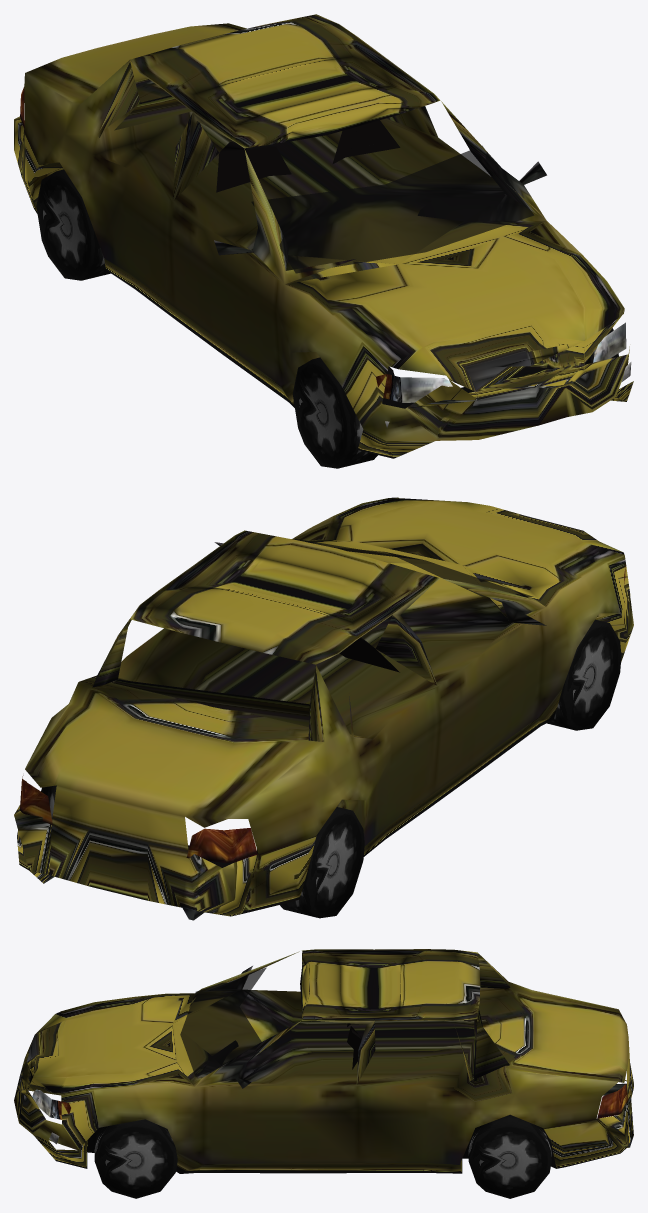
File: sedan_far.glb
3 views of the same model, one above another, from view 1: azimuth 30°, elevation 25°; view 2: azimuth 150°, elevation 25°; view 3: azimuth 270°, elevation 25° (orthographic). The views are drawn at different scales.
Visible parts, largest first — view 1: body, wheel_fr, wheel_rr; view 2: body, wheel_rr, wheel_fr; view 3: body, wheel_rl, wheel_fl.
Boxes of the visible parts, left/top/right/bottom form: body: left=14, top=14, right=633, bottom=458; wheel_fr: left=292, top=357, right=377, bottom=468; wheel_rr: left=36, top=169, right=110, bottom=280; body: left=14, top=497, right=633, bottom=920; wheel_rr: left=280, top=807, right=364, bottom=918; wheel_fr: left=546, top=619, right=621, bottom=730; body: left=14, top=949, right=633, bottom=1173; wheel_rl: left=468, top=1114, right=551, bottom=1198; wheel_fl: left=94, top=1119, right=177, bottom=1198.
Size of the model in its own units: 2.09 by 1.43 by 4.66.
Materials: 4 (3 with a texture image).
